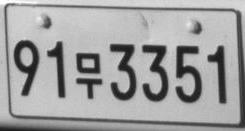1: (206, 44, 233, 103), (45, 40, 72, 98)
3: (109, 43, 137, 101), (141, 44, 169, 101)
5: (174, 44, 203, 104)
9: (12, 38, 40, 96)
무: (75, 51, 102, 99)
